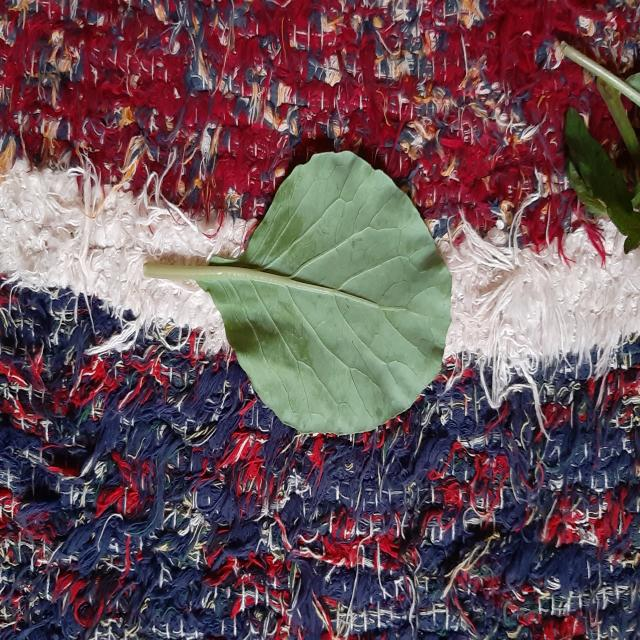Kohlrabi: (144, 151, 451, 433)
